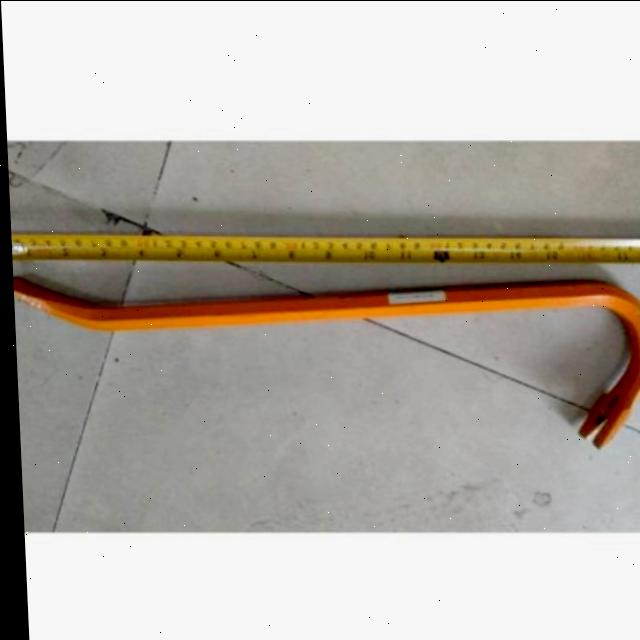crow bar: (10, 282, 640, 447)
